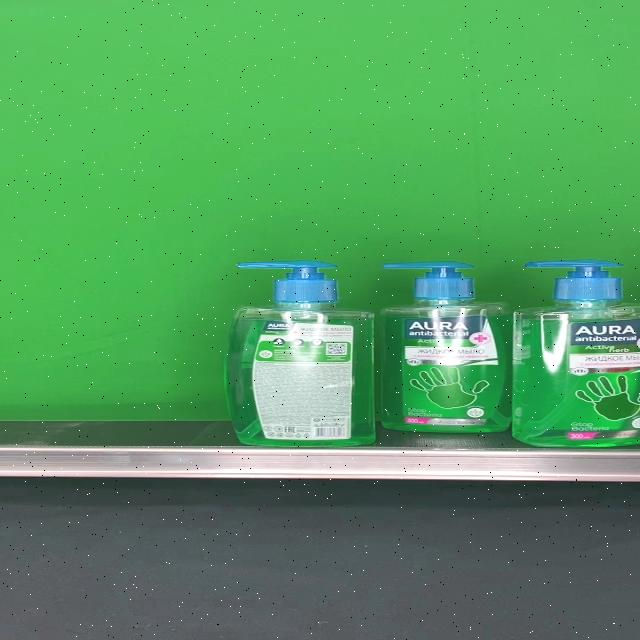Bottle: (227, 260, 374, 448), (509, 259, 640, 447), (380, 260, 516, 432)
Cap: (234, 260, 338, 302), (524, 259, 624, 301), (382, 260, 476, 300)
